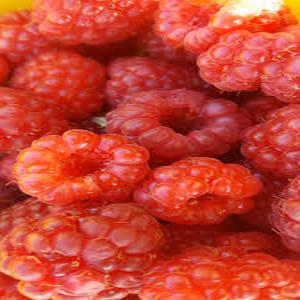raspb: (1, 21, 300, 300)
